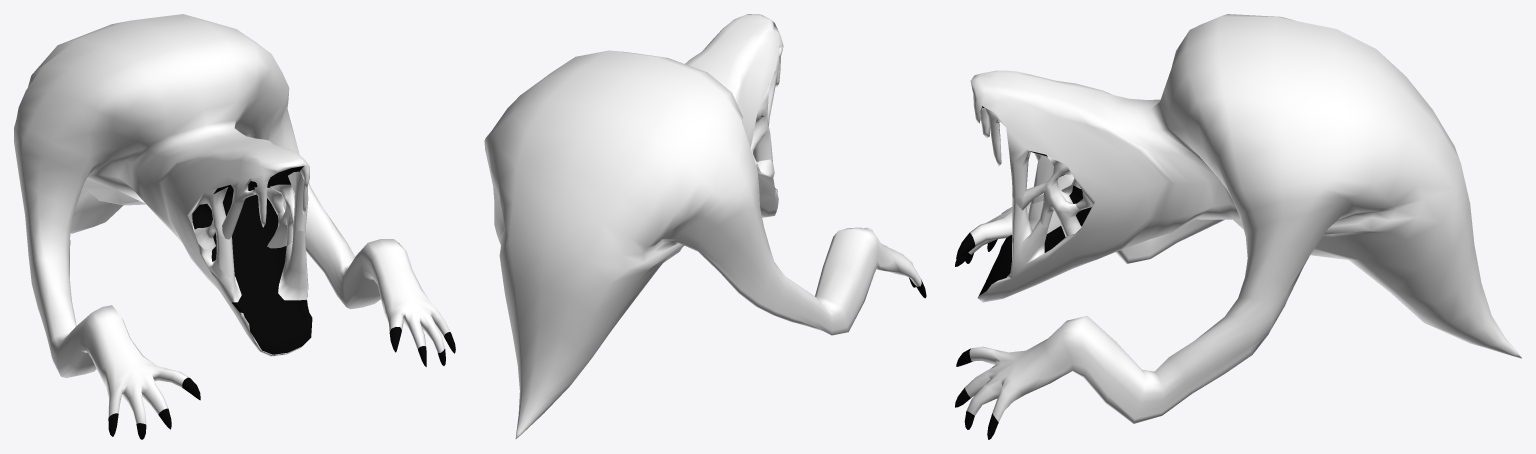
File: Monster2 1.fbx
The picture shows the model from 3 angles, left to right: view 1: azimuth 30°, elevation 25°; view 2: azimuth 150°, elevation 25°; view 3: azimuth 270°, elevation 25°; orthographic projection. The views are drawn at different scales.
Parts seen in each view (by area): view 1: pCube1; view 2: pCube1; view 3: pCube1.
Boxes of the visible parts, left/top/right/bottom form: pCube1: left=14, top=14, right=455, bottom=439; pCube1: left=484, top=14, right=926, bottom=439; pCube1: left=955, top=14, right=1521, bottom=439.
Bounding box in the file's own units: 9.74 × 7.67 × 12.28.
Materials: 1 (1 with a texture image).
